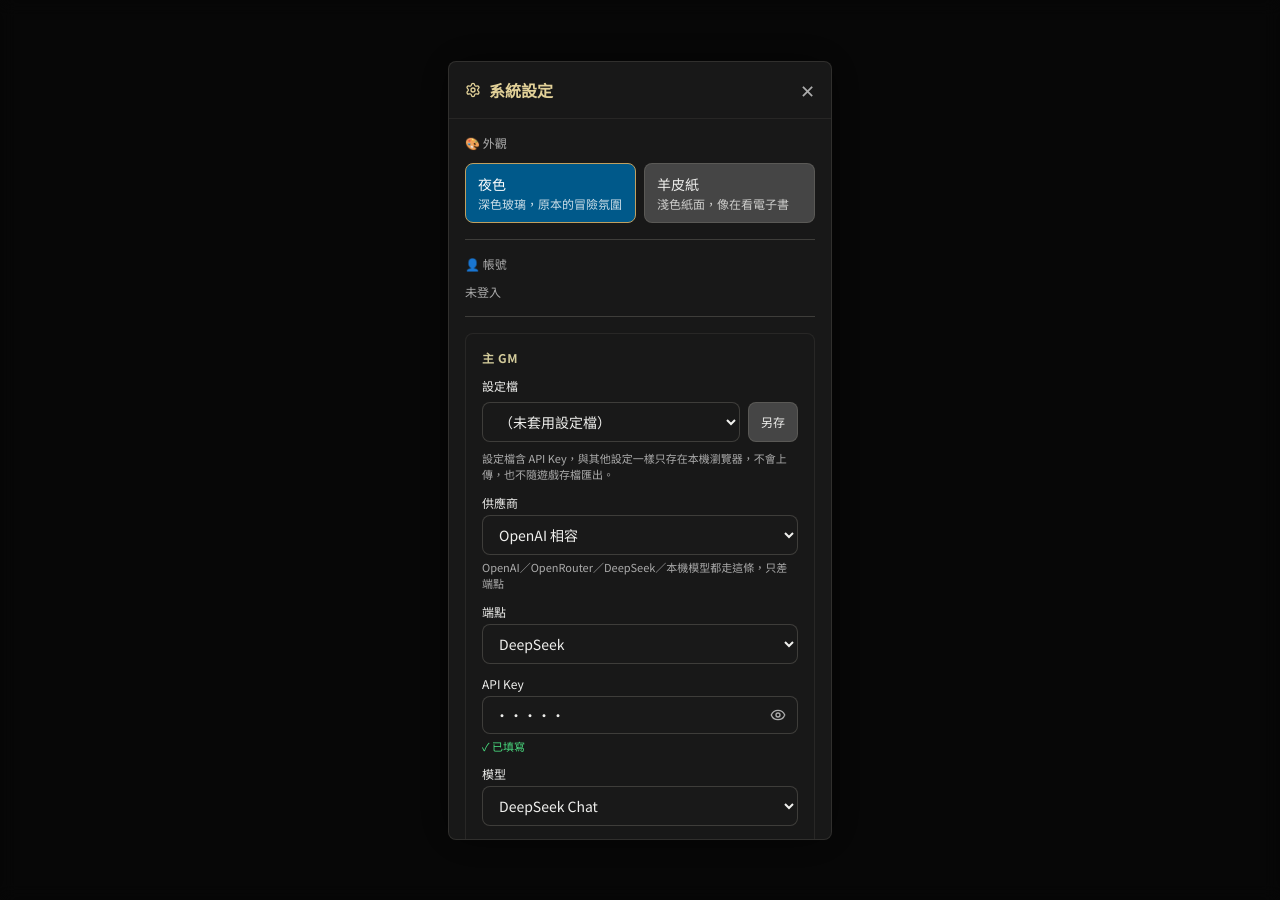
Test: SettingsModal — 設定檔 › 套用設定檔會把供應商、端點與型號一起換過去
The image size is (1280, 900).
Select "Claude 寫景 — Anthropic Claude／claude-sonnet-5" in the dropdown named "設定檔" at (611,422), box [482,402,740,442]
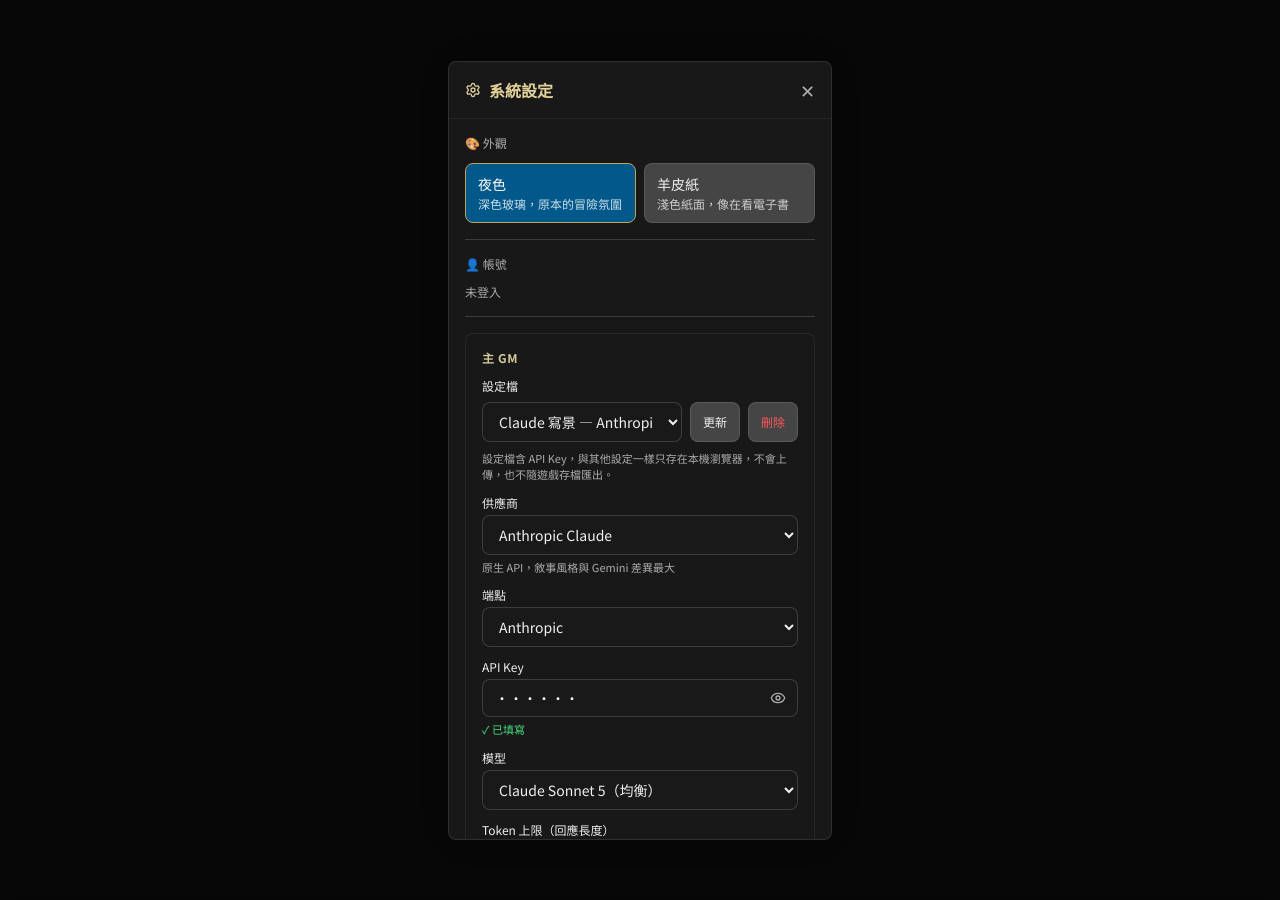
expect the dropdown named "供應商" shows "Anthropic Claude": met, box [482,514,798,554]
expect the dropdown named "模型" shows "Claude Sonnet 5（均衡）": met, box [482,770,798,810]
